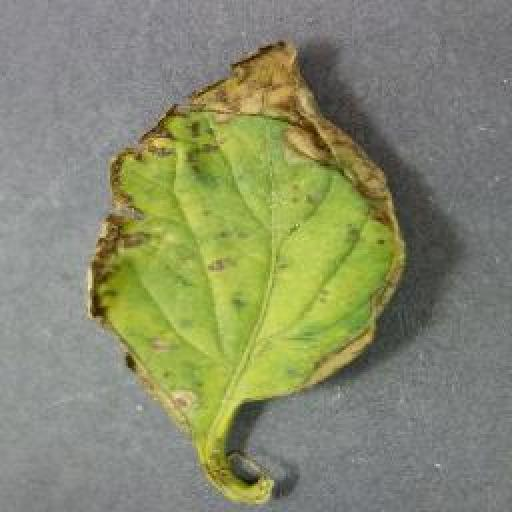Bacterial Spot: (71, 25, 415, 512)
